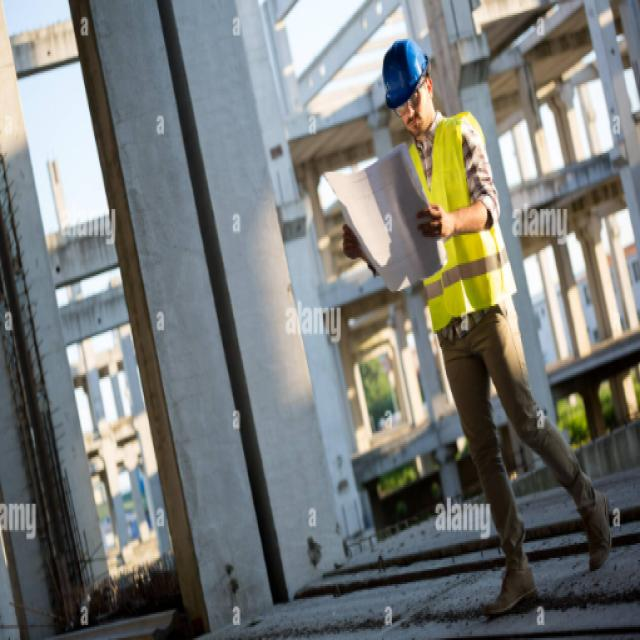hard_hat: (378, 38, 438, 144)
shoes: (484, 492, 619, 626)
vest: (384, 108, 518, 341)
